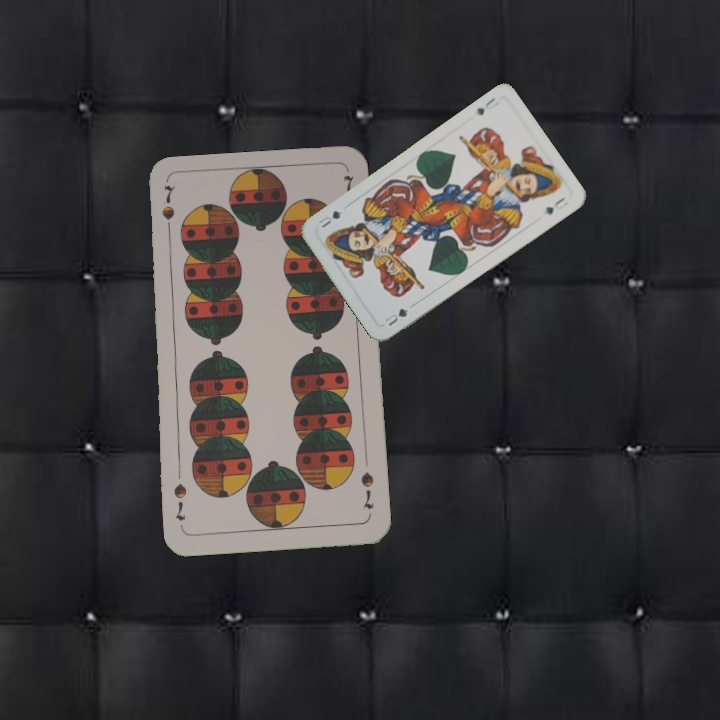GU: (381, 304, 411, 329), (473, 93, 498, 118)
S7: (357, 468, 377, 511), (158, 201, 177, 241)
